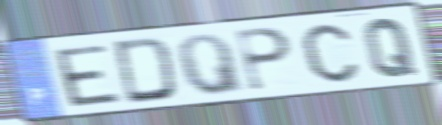C: (299, 21, 361, 85)
D: (110, 35, 179, 106)
E: (51, 42, 125, 109)
P: (233, 26, 294, 94)
Q: (175, 31, 248, 97), (362, 16, 419, 80)
